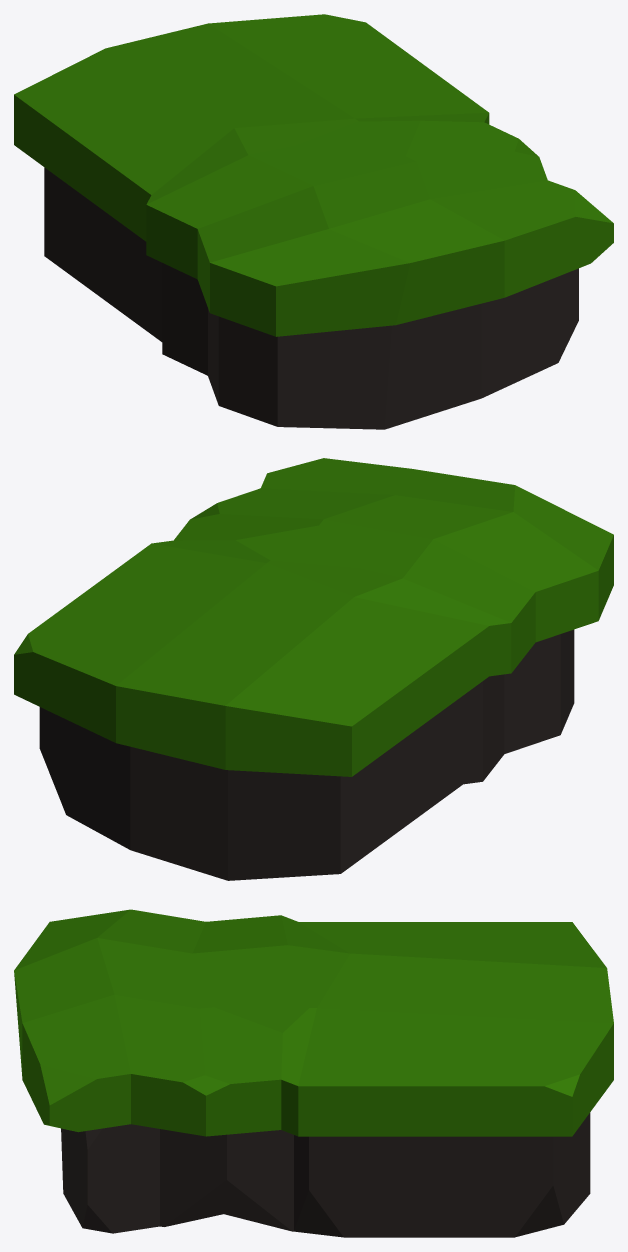
The picture shows the model from 3 angles, top to bottom: view 1: azimuth 30°, elevation 25°; view 2: azimuth 150°, elevation 25°; view 3: azimuth 270°, elevation 25°; orthographic projection.
Parts seen in each view (by area): view 1: Cube.003; view 2: Cube.003; view 3: Cube.003.
Boxes of the visible parts, left/top/right/bottom form: Cube.003: left=14, top=14, right=613, bottom=429; Cube.003: left=14, top=458, right=613, bottom=880; Cube.003: left=14, top=909, right=613, bottom=1237.
Size of the model in its own units: 1029 by 541 by 1476.
